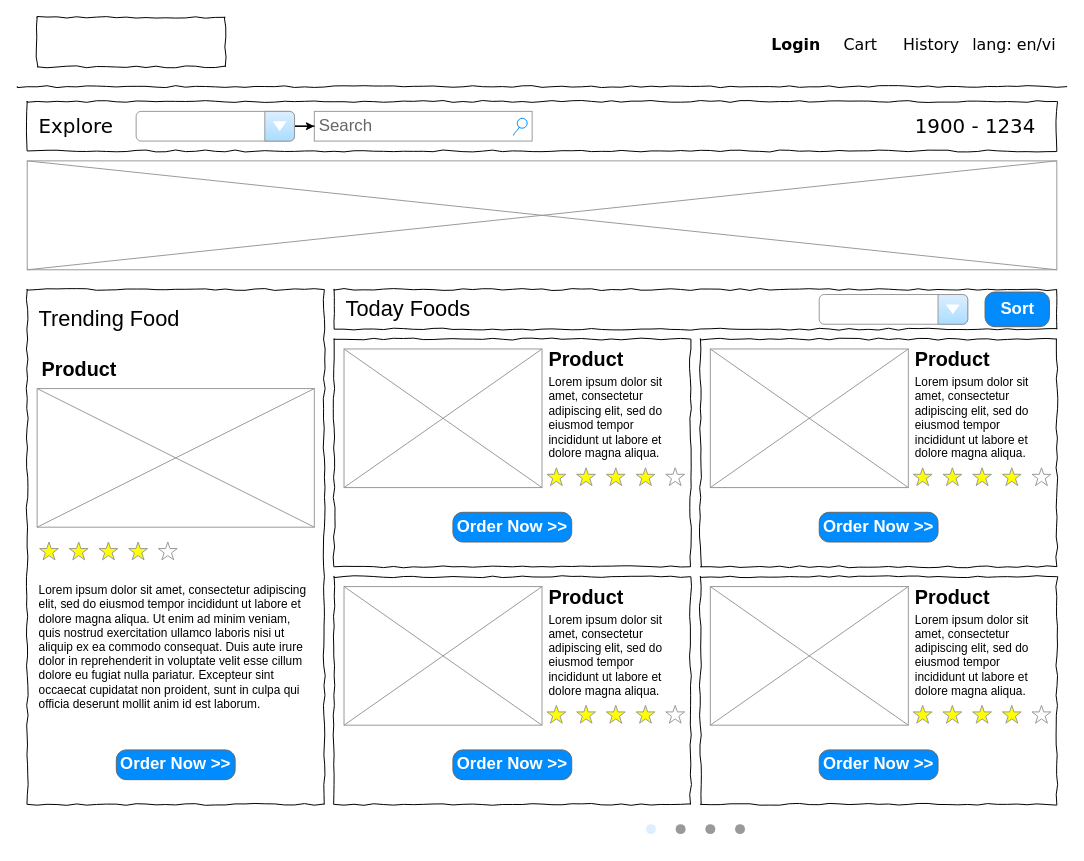
The diagram is 1084 pixels wide and 861 high, and some of its shapes have lost their labels. The shapes that lost their labels are listed below. From the top down, each one's centre as x and y in pixels, then its label:
the point at 130,41: LOGO
the point at 215,125: Restaurant List
the point at 893,309: Option 1
